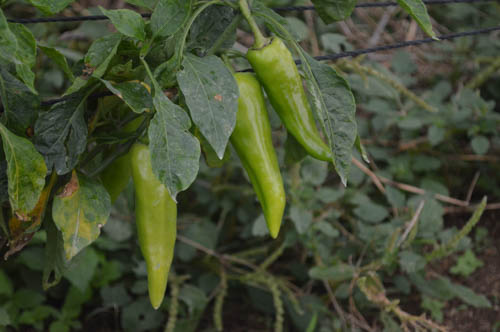ChiliPepper: (216, 69, 290, 240), (249, 40, 347, 167), (127, 143, 180, 315)
